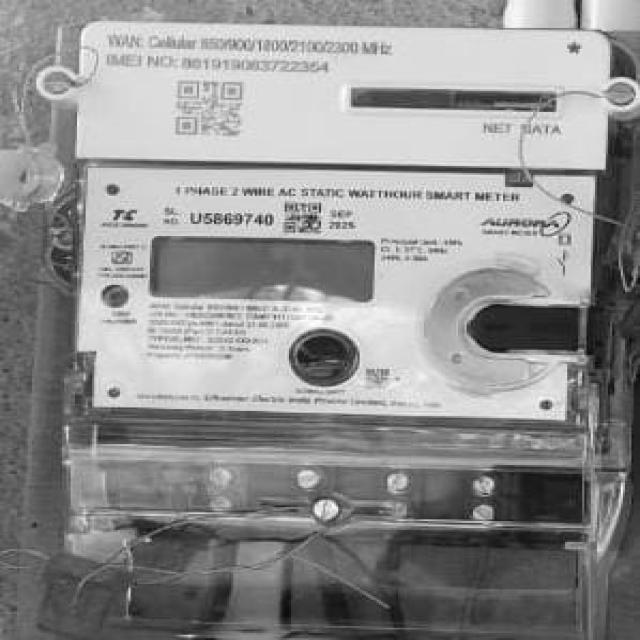meter: (82, 24, 603, 421)
